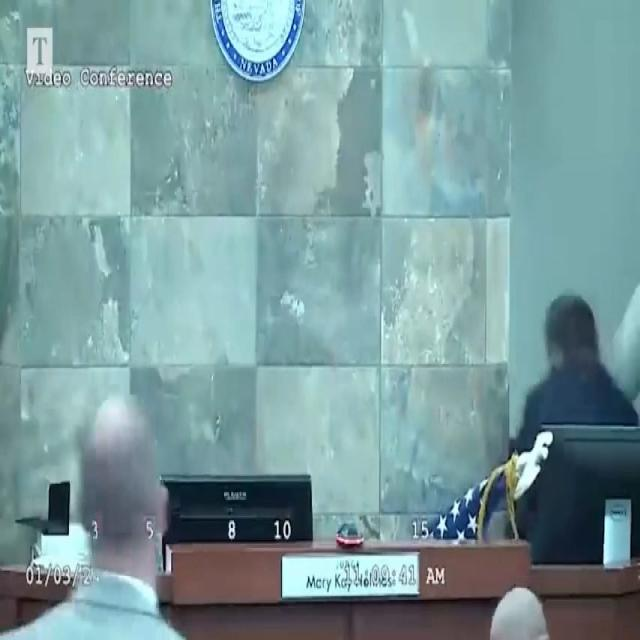non-fight: (28, 391, 186, 640), (504, 290, 640, 486)
